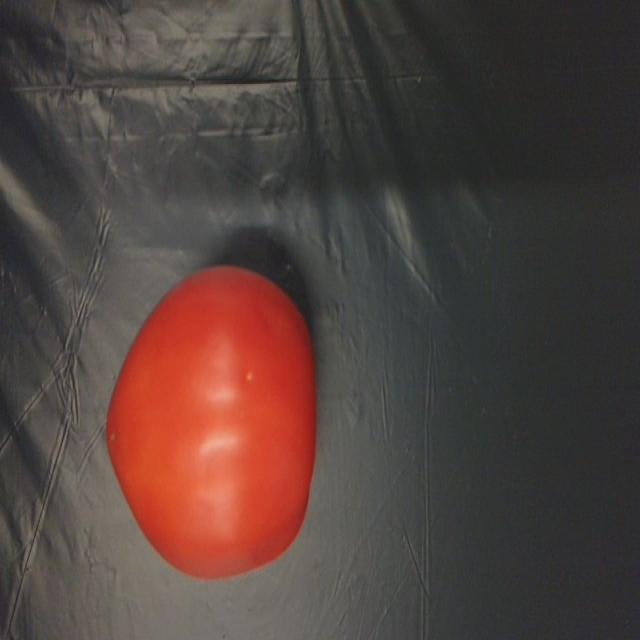kirmizi: (104, 253, 323, 587)
